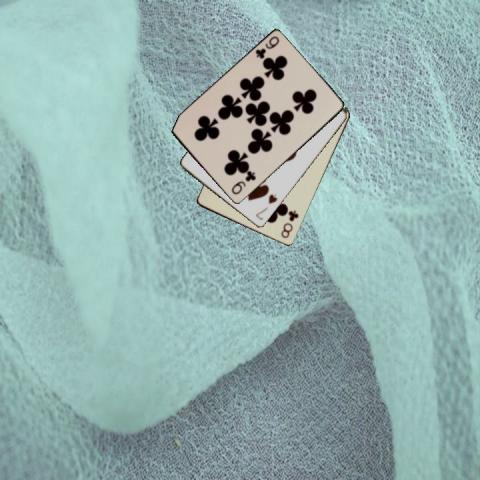7s: (252, 191, 278, 222)
8c: (278, 208, 300, 240)
9c: (252, 33, 281, 61), (229, 169, 257, 196)
